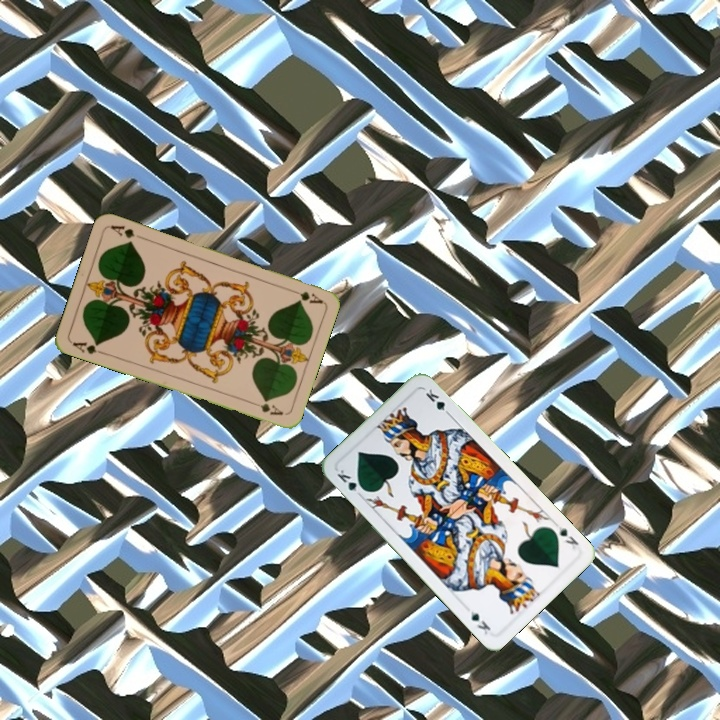GA: (285, 285, 325, 306), (69, 338, 108, 358)
GK: (333, 465, 368, 499), (555, 522, 581, 554)
